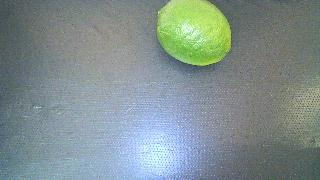EXPORTACION: (157, 0, 231, 66)
